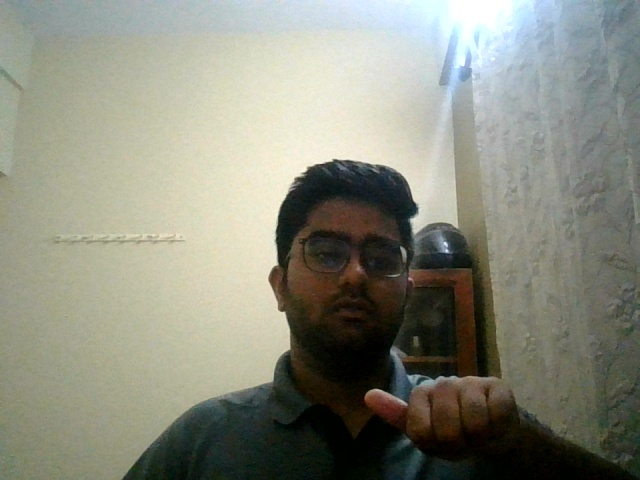Yes: (357, 357, 528, 480)
